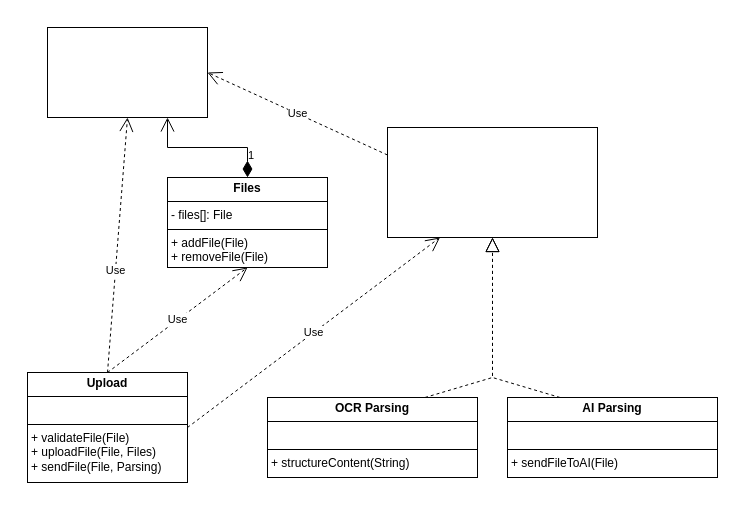
The diagram is 745 pixels wide and 515 high, and some of its shapes have lost their labels. Here are the shapes that lost their labels. From the top down, the centre of each, then its label:
At [127,72]: "File - path: String - extension: String".
At [492,182]: "<<Interface>> Parsing + getFileContent(File) + updateDatabase(Map, Connection)".
